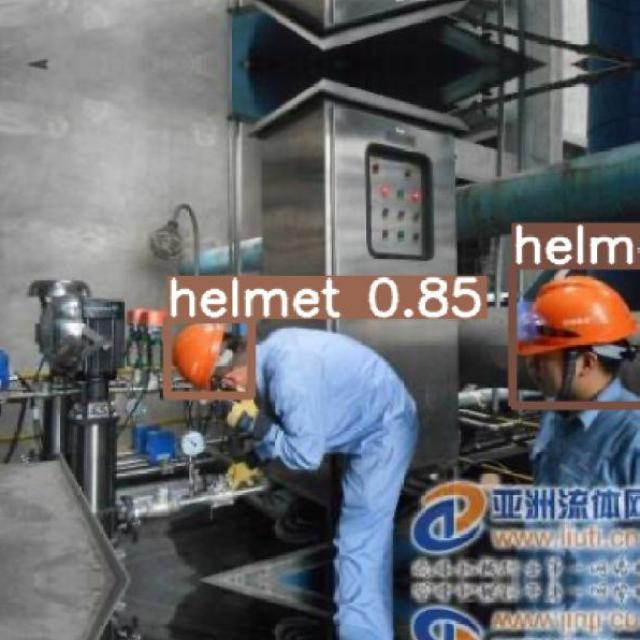helmet: (515, 275, 637, 355), (173, 321, 225, 389)
